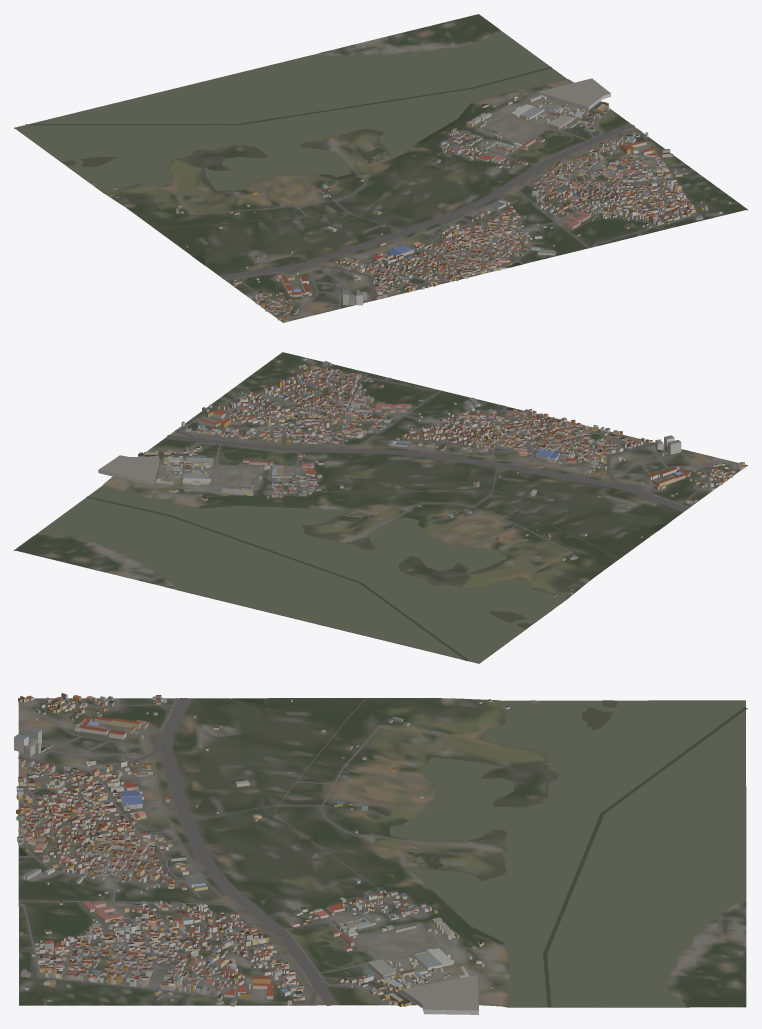
3 views of the same model, one above another, from view 1: azimuth 30°, elevation 25°; view 2: azimuth 150°, elevation 25°; view 3: azimuth 270°, elevation 25° (orthographic). The views are drawn at different scales.
Parts seen in each view (by area): view 1: ground, water, buildings, roads; view 2: ground, water, buildings, roads; view 3: ground, water, buildings, roads.
Boxes of the visible parts, box(x1,y1,x2,y2) form: ground: box(14, 14, 747, 322); water: box(15, 30, 570, 285); buildings: box(110, 78, 731, 322); roads: box(154, 94, 737, 321); ground: box(14, 352, 747, 663); water: box(37, 407, 668, 663); buildings: box(98, 357, 744, 596); roads: box(146, 359, 740, 558); ground: box(18, 698, 746, 1007); water: box(19, 698, 747, 1007); buildings: box(14, 693, 509, 1014); roads: box(18, 698, 487, 1005).
Bounding box in the file's own units: 1446 × 37.7 × 1414.
